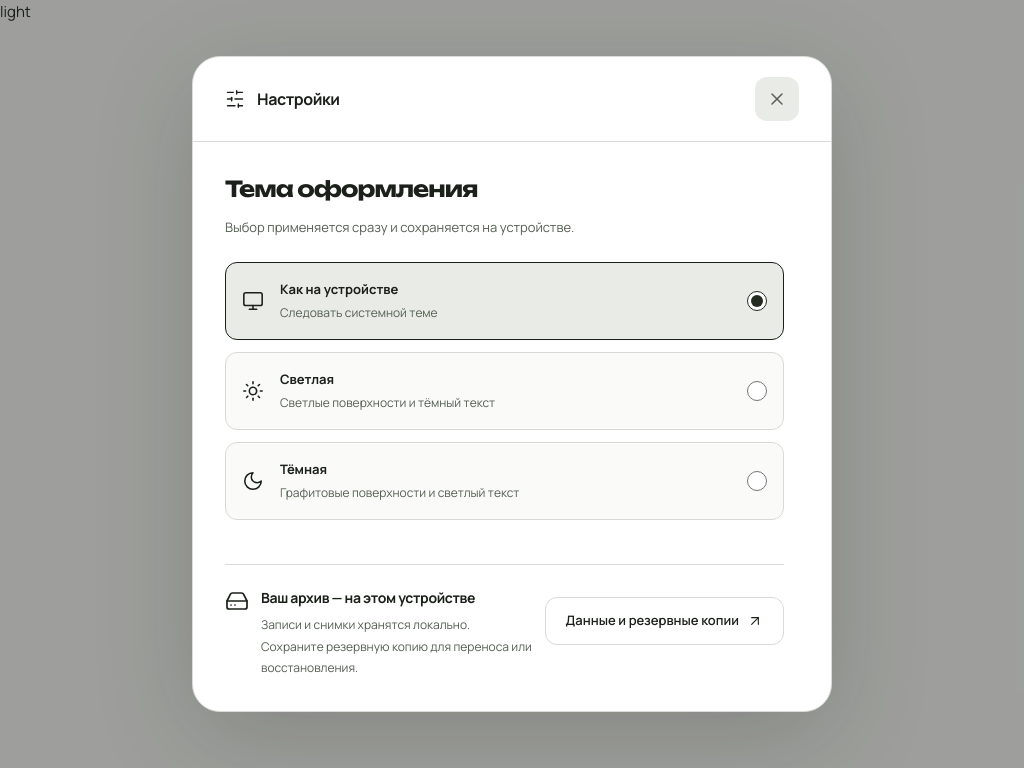
Scenario: persists an explicit selection and ignores system changes until system is chosen
Click the radio button labelled "Тёмная Графитовые поверхности и светлый текст". click: click(757, 481)
box: x1=747 y1=471 x2=767 y2=491
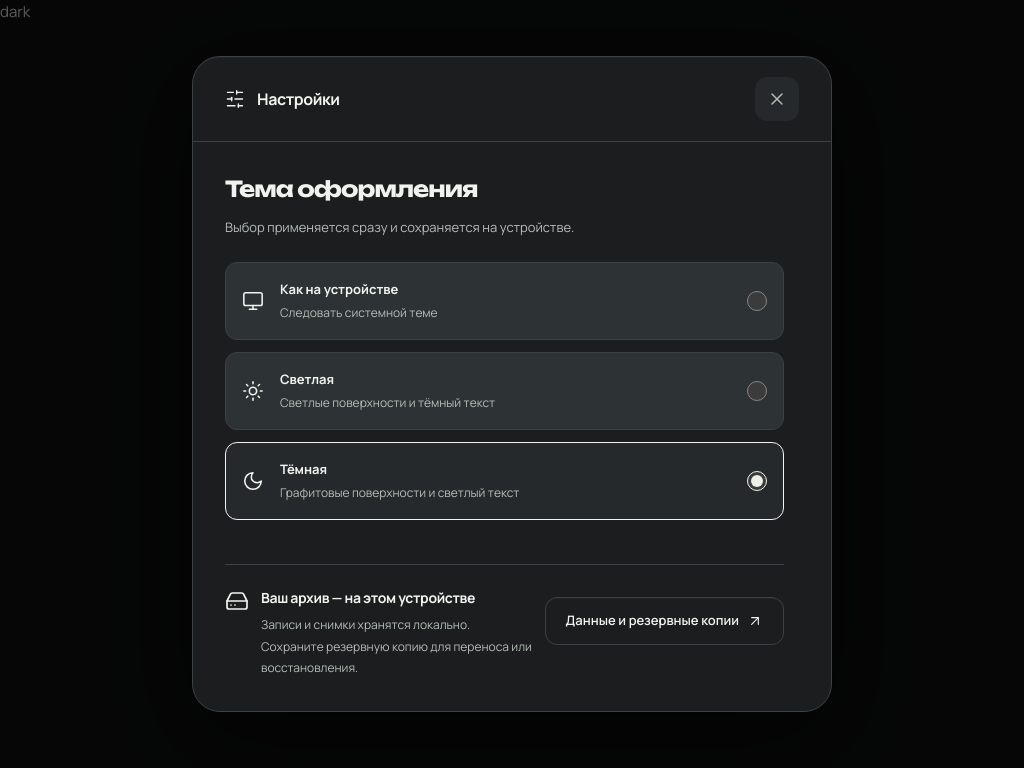
Check: the text "dark" is shown, box x1=0 y1=1 x2=30 y2=22
Check: the text named "Текущая тема" reads "dark", box x1=0 y1=1 x2=30 y2=22
Click the radio button labelled "Как на устройстве Следовать системной теме". click: click(757, 301)
box: x1=747 y1=291 x2=767 y2=311
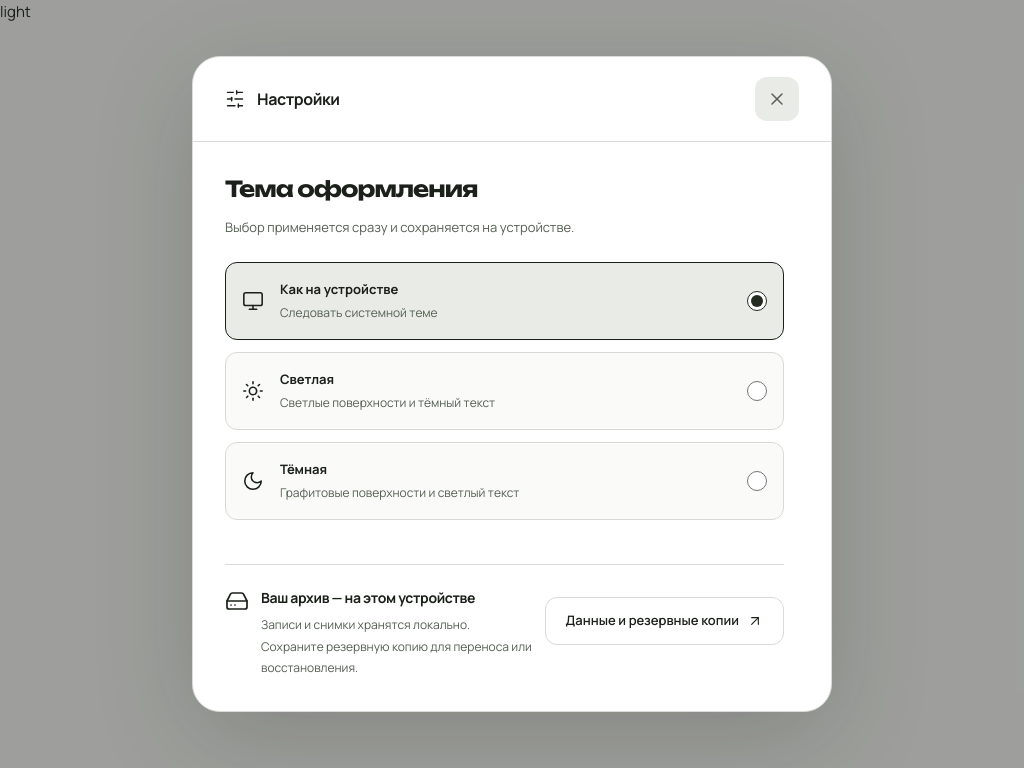
Check: the text named "Текущая тема" reads "light", box x1=0 y1=1 x2=31 y2=22
